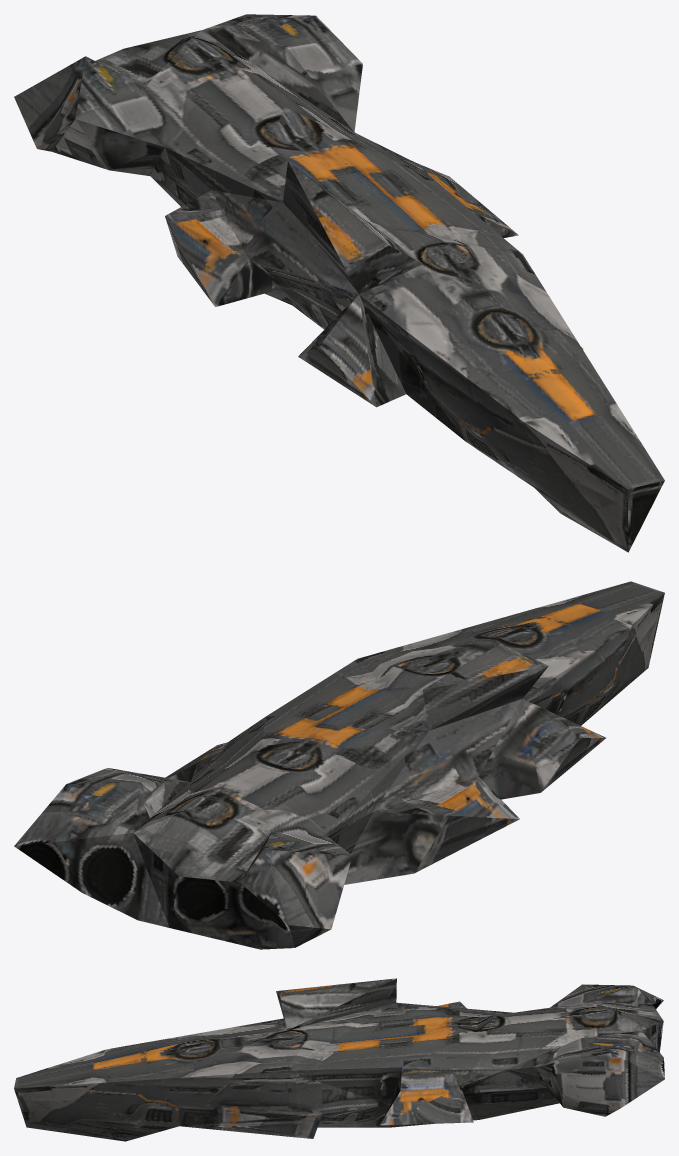
The model's file is hard-150.glb.
3 renders of one model, top to bottom at view 1: azimuth 30°, elevation 25°; view 2: azimuth 150°, elevation 25°; view 3: azimuth 270°, elevation 25°, orthographic. The views are drawn at different scales.
Visible parts, largest first — view 1: Low; view 2: Low; view 3: Low.
Boxes of the visible parts, x1=… form: Low: x1=14, y1=14, x2=664, y2=552; Low: x1=14, y1=581, x2=664, y2=949; Low: x1=14, y1=978, x2=664, y2=1141.
Bounding box in the file's own units: 0.3446 × 0.2342 × 0.9711.
Materials: 1 (1 with a texture image).
